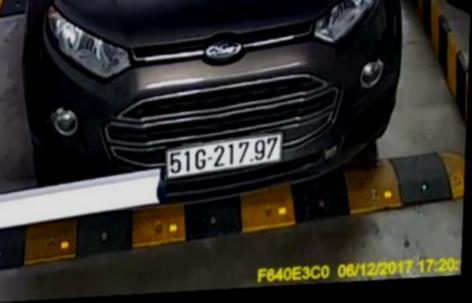License_Plate: (163, 131, 284, 178)
